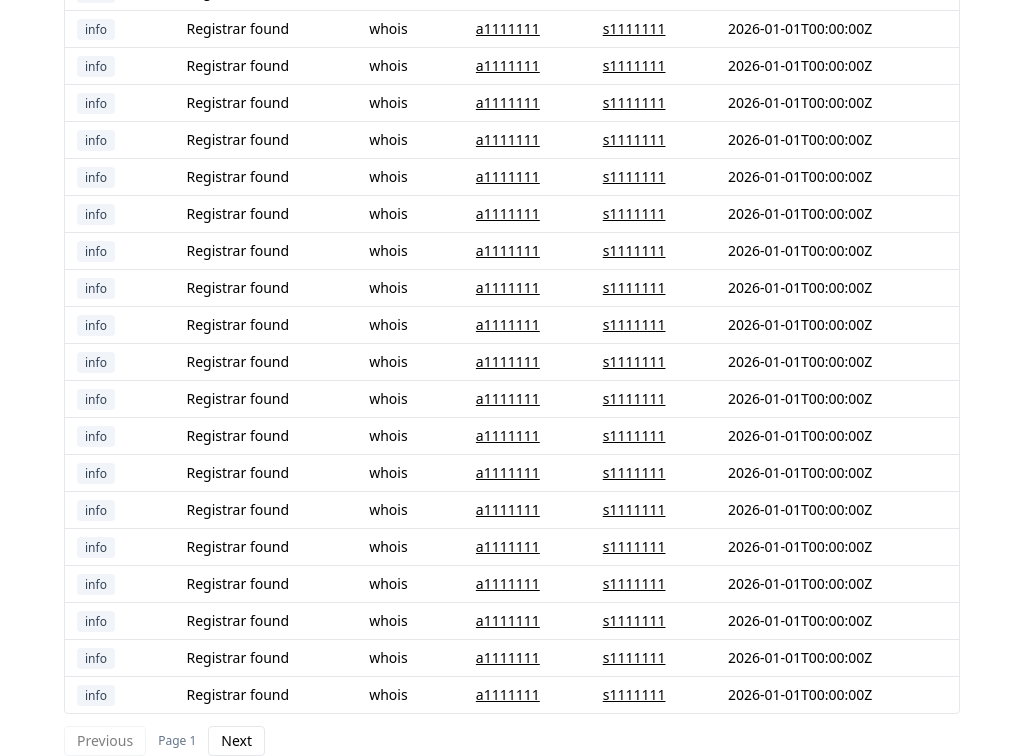
Test case: FindingsPage — read-only, cross-tenant-safe list › paginates: Next disabled on a short final page, enabled on a full page, offset advances on click
This screenshot has width=1024, height=756.
(page scrolled)
Expected: the text "Page 1" is shown, top-left (158, 733), bottom-right (196, 749)
Expected: the button "Previous" is disabled, top-left (64, 726), bottom-right (146, 755)
Click the button "Next". click: click(237, 741)
box: top-left (208, 726), bottom-right (265, 755)
(page scrolled)
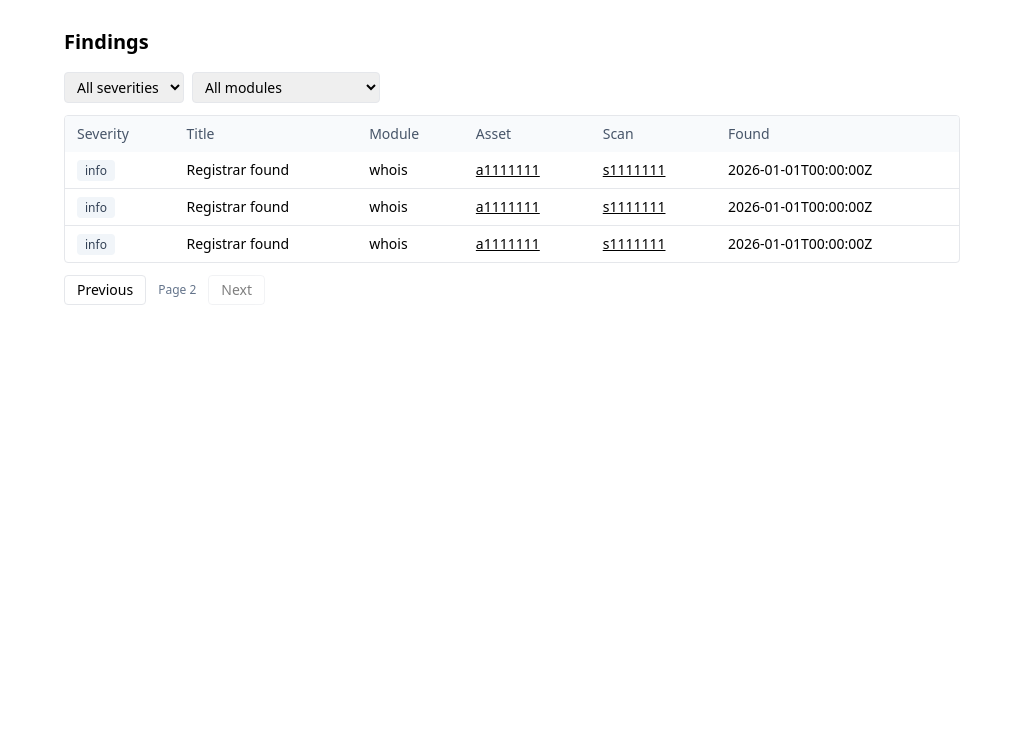
Expected: the text "Page 2" is shown, top-left (158, 282), bottom-right (196, 298)
Expected: the button "Next" is disabled, top-left (208, 275), bottom-right (265, 305)
Expected: the button "Previous" is enabled, top-left (64, 275), bottom-right (146, 305)
